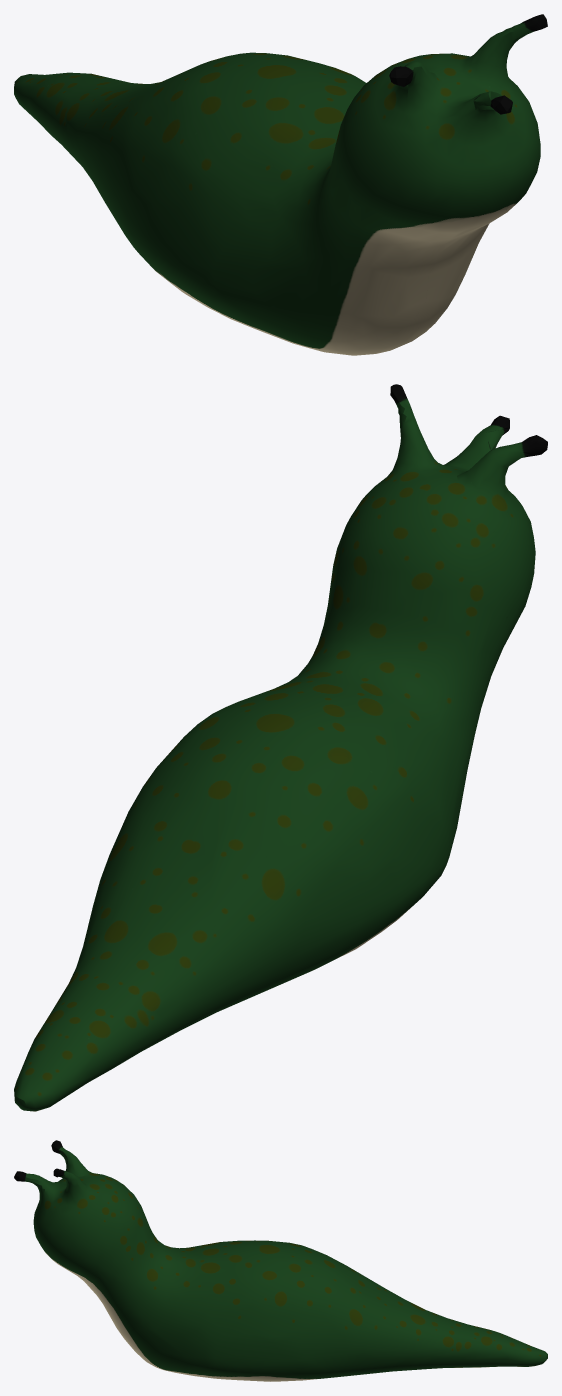
File: Slugger.fbx
3 views of the same model, one above another, from view 1: azimuth 30°, elevation 25°; view 2: azimuth 150°, elevation 25°; view 3: azimuth 270°, elevation 25° (orthographic). The views are drawn at different scales.
Parts seen in each view (by area): view 1: Slugger.001; view 2: Slugger.001; view 3: Slugger.001.
Boxes of the visible parts, x1,y1,x2,y2 form: Slugger.001: (14,14,547,355); Slugger.001: (14,384,547,1111); Slugger.001: (14,1140,547,1381).
Size of the model in its own units: 23.41 by 34.89 by 78.12.
